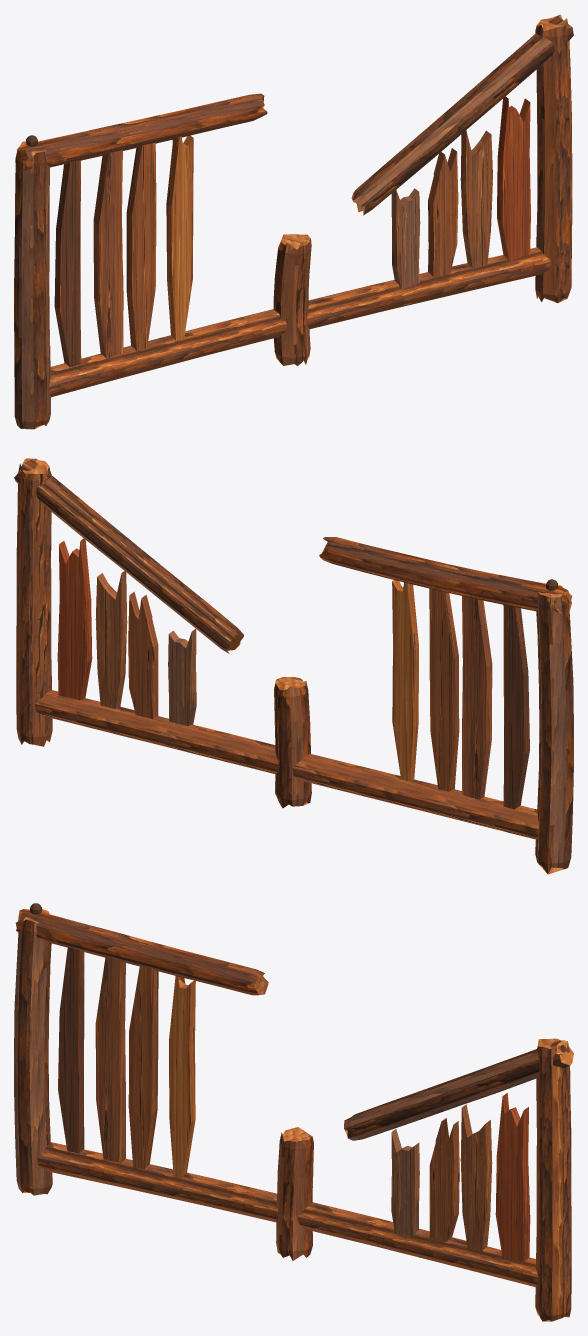
File: railing_broken.glb
3 views of the same model, one above another, from view 1: azimuth 30°, elevation 25°; view 2: azimuth 150°, elevation 25°; view 3: azimuth 330°, elevation 25° (orthographic).
Visible parts, largest first — view 1: model; view 2: model; view 3: model.
Boxes of the visible parts, x1,y1,x2,y2 form: model: (14,14,573,429); model: (14,458,573,874); model: (14,903,573,1321).
Bounding box in the file's own units: 1.99 × 0.988 × 0.123.
19 materials, 19 textured.
